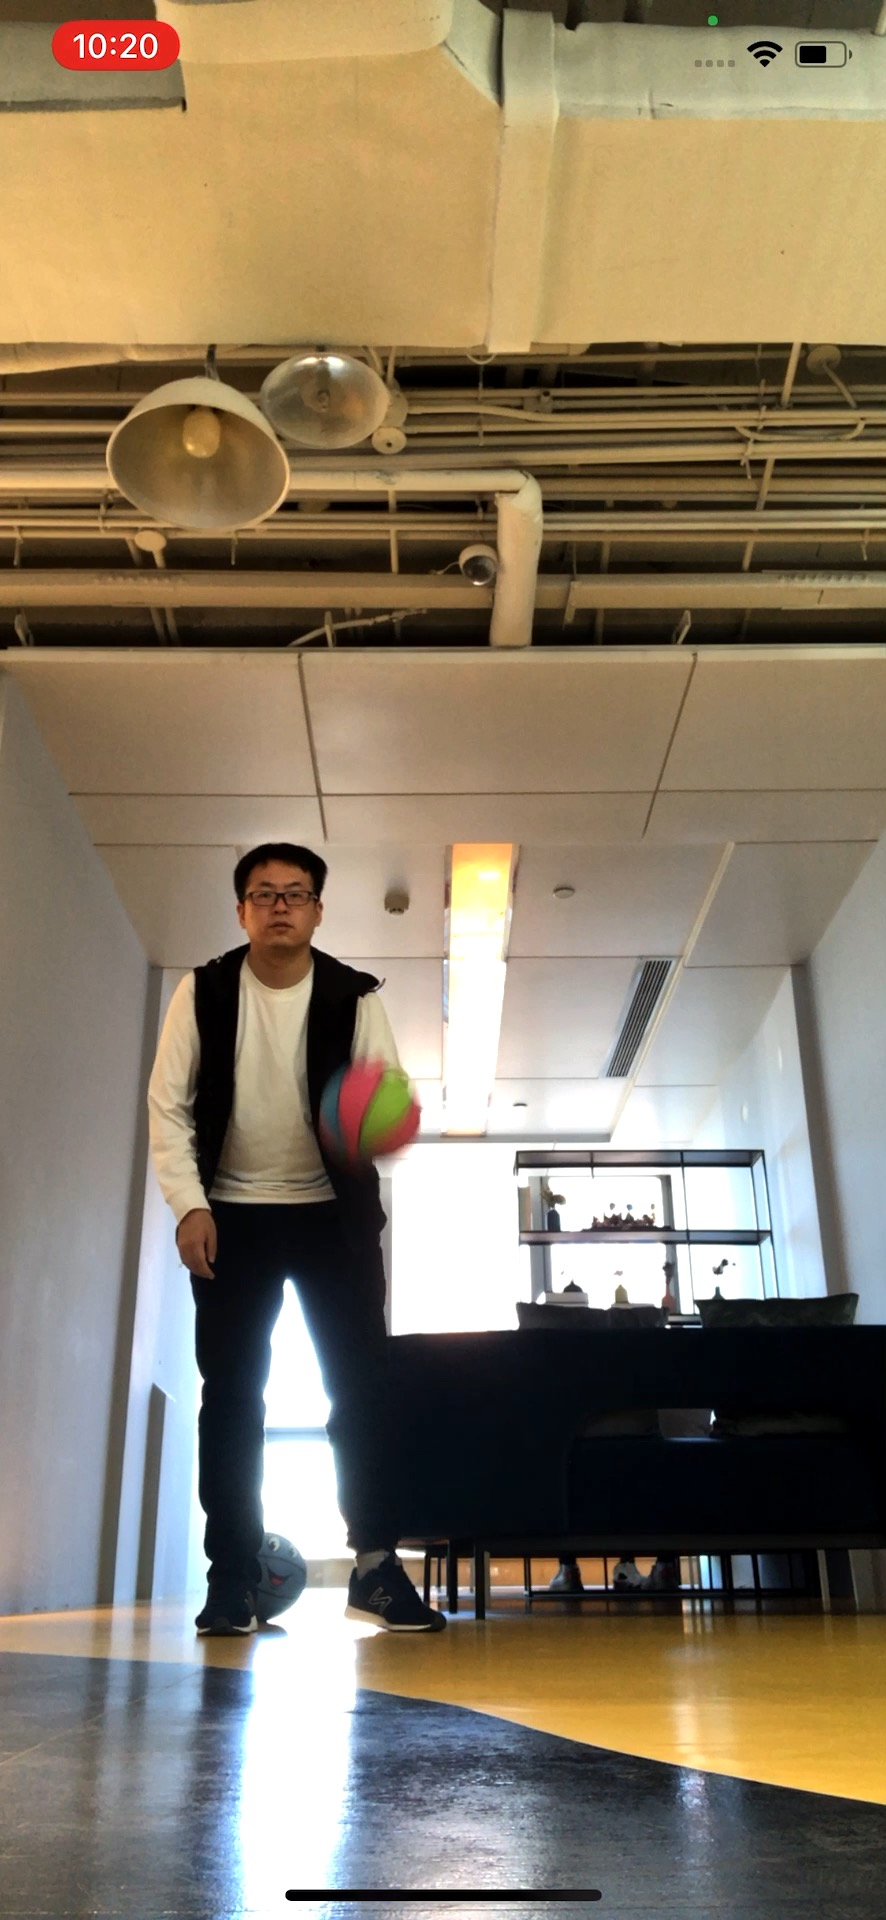ball: (318, 1060, 425, 1155)
